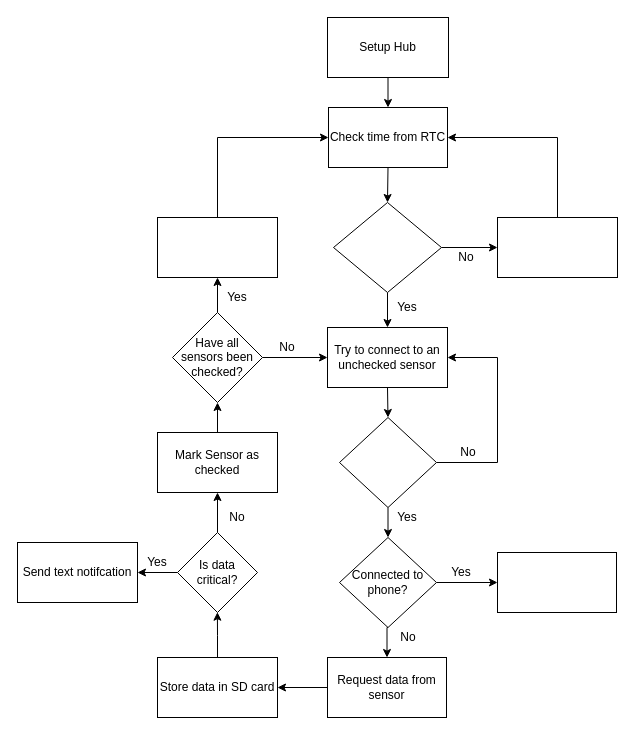
Image size: 635x735. Some labels were removed from this diagram. Each missing label, with the box of its shape:
Bluetooth Connected?: (338, 416, 436, 508)
Is it time for sensor check?: (332, 202, 442, 292)
Process commands from phone app: (496, 552, 616, 612)
Unmark all sensors: (156, 216, 278, 278)
Wait: (496, 216, 618, 278)
